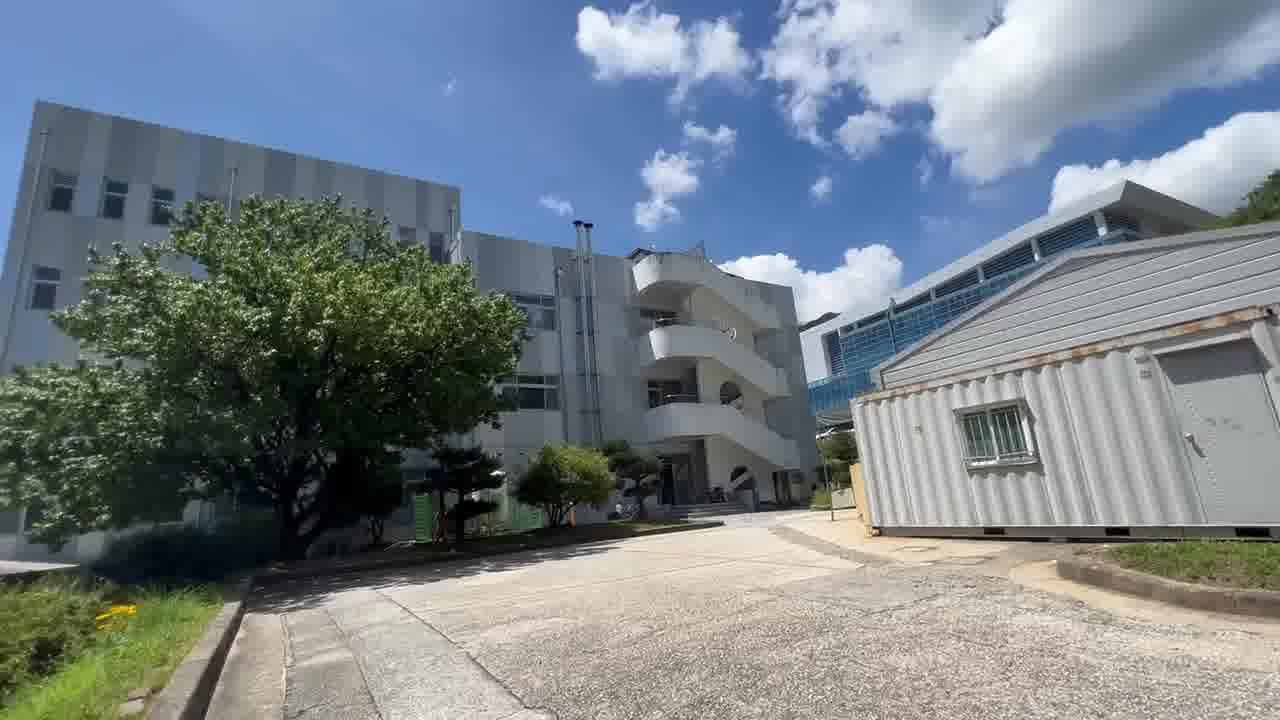building: (857, 252, 1271, 530), (503, 221, 832, 463), (36, 106, 469, 285)
